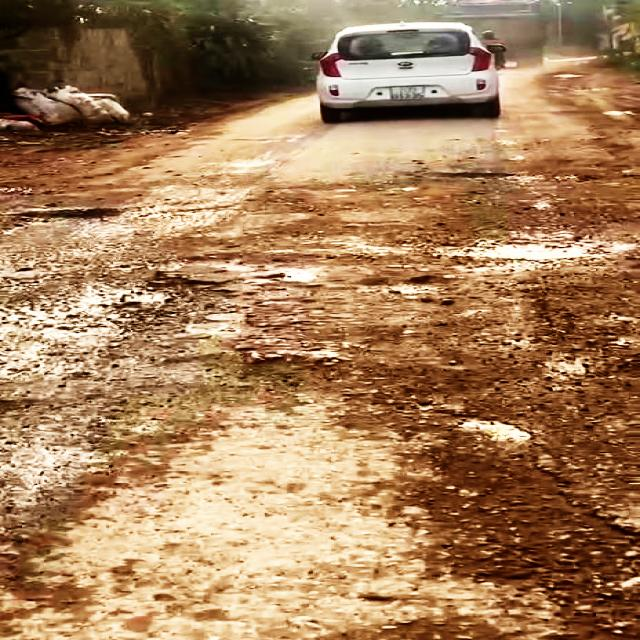pothole: (0, 261, 299, 388), (431, 231, 640, 264)
